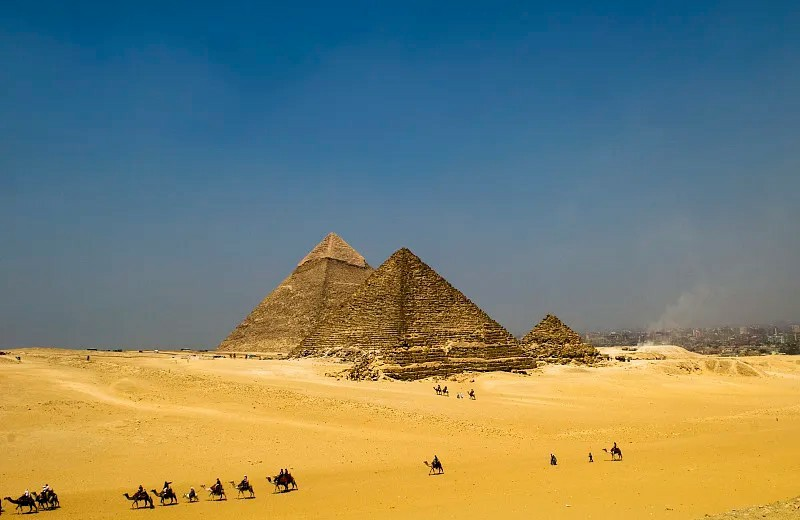Pyramid: (286, 248, 520, 362), (214, 232, 375, 357), (360, 334, 457, 377), (449, 323, 537, 370), (521, 317, 608, 364)
